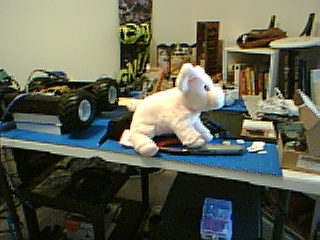piggy: (126, 61, 228, 160)
